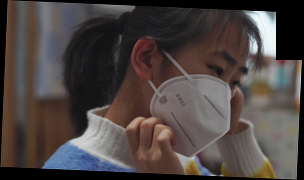with_mask: (148, 47, 249, 161)
